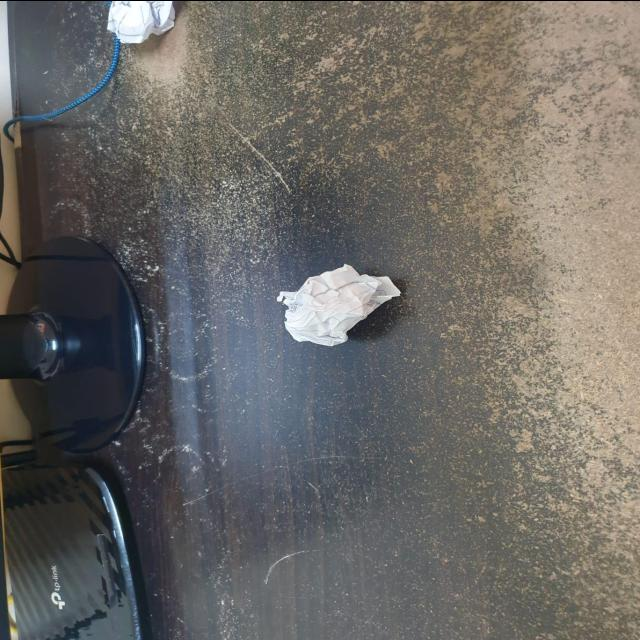kertas: (276, 260, 407, 346)
